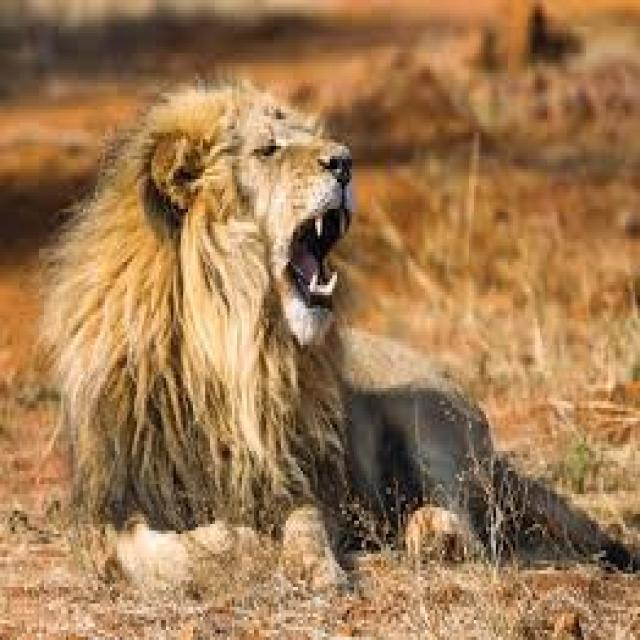Lion: (54, 73, 624, 564)
